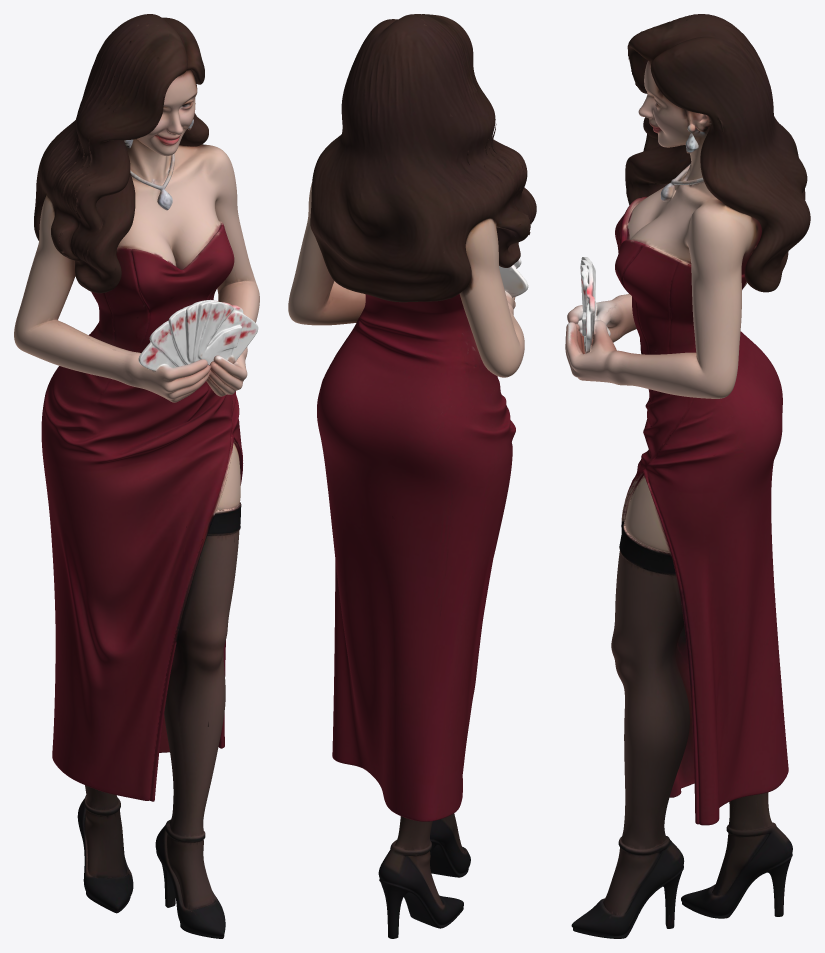
The model's file is dealer.glb.
3 views of the same model, side by side, from view 1: azimuth 30°, elevation 25°; view 2: azimuth 150°, elevation 25°; view 3: azimuth 270°, elevation 25° (orthographic). The views are drawn at different scales.
Parts seen in each view (by area): view 1: node_0; view 2: node_0; view 3: node_0.
Boxes of the visible parts, bbox=[...] form: node_0: bbox=[14, 14, 259, 938]; node_0: bbox=[288, 14, 536, 938]; node_0: bbox=[565, 14, 810, 938].
Size of the model in its own units: 0.3215 by 1.17 by 0.2862.
1 material, 1 textured.
